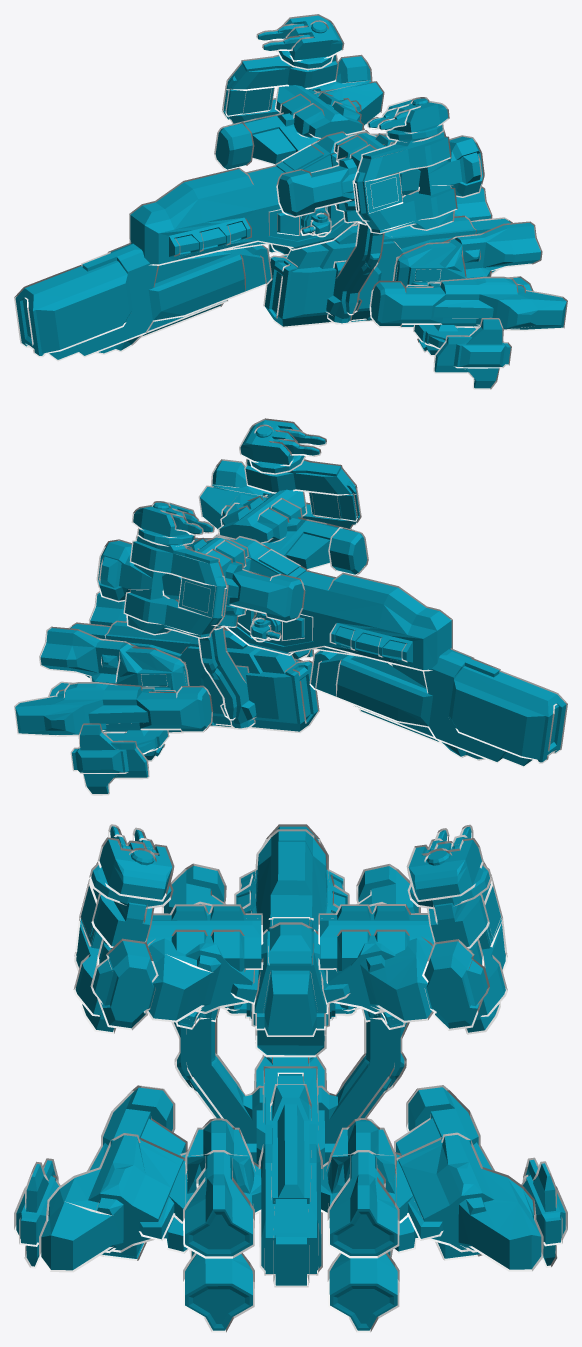
The model's file is ship9_blue.glb.
3 renders of one model, top to bottom at view 1: azimuth 30°, elevation 25°; view 2: azimuth 150°, elevation 25°; view 3: azimuth 270°, elevation 25°, orthographic. The views are drawn at different scales.
Visible parts, largest first — view 1: ME_ship_IndexedFaceSet, ME_ship_IndexedFaceSet.001; view 2: ME_ship_IndexedFaceSet, ME_ship_IndexedFaceSet.001; view 3: ME_ship_IndexedFaceSet.001, ME_ship_IndexedFaceSet.
Boxes of the visible parts, <box> form: ME_ship_IndexedFaceSet: <box>14,14,484,361</box>; ME_ship_IndexedFaceSet.001: <box>263,85,567,389</box>; ME_ship_IndexedFaceSet: <box>96,418,567,767</box>; ME_ship_IndexedFaceSet.001: <box>14,489,319,795</box>; ME_ship_IndexedFaceSet.001: <box>14,904,567,1332</box>; ME_ship_IndexedFaceSet: <box>73,824,507,1057</box>.
Size of the model in its own units: 702 by 376 by 472.
